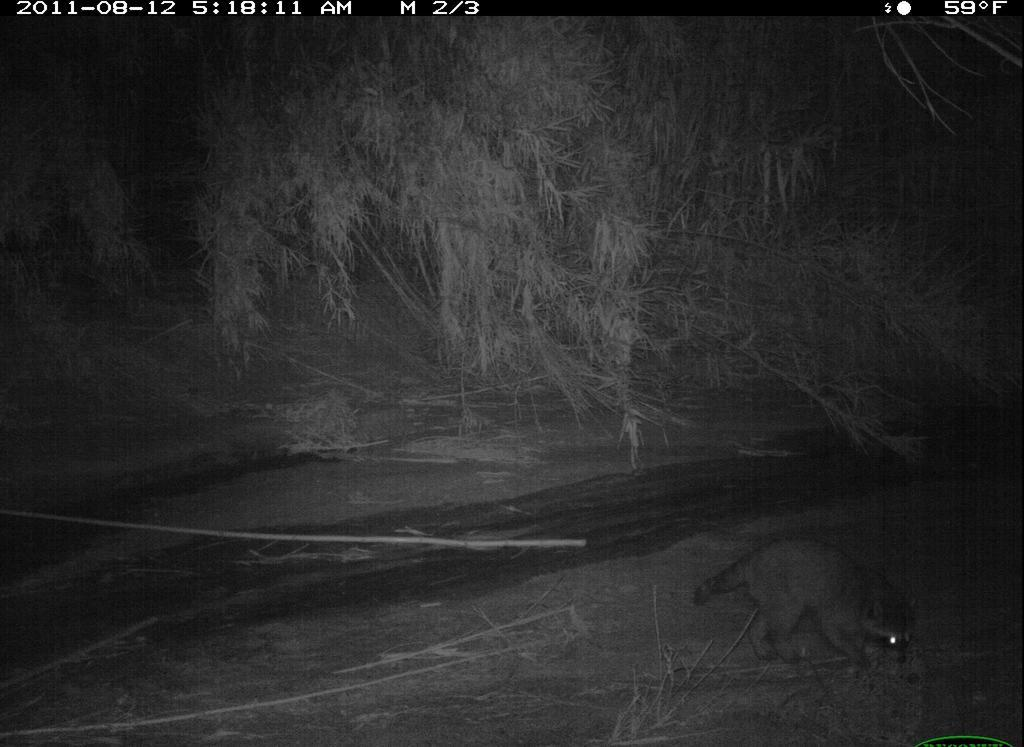raccoon: (693, 528, 925, 681)
